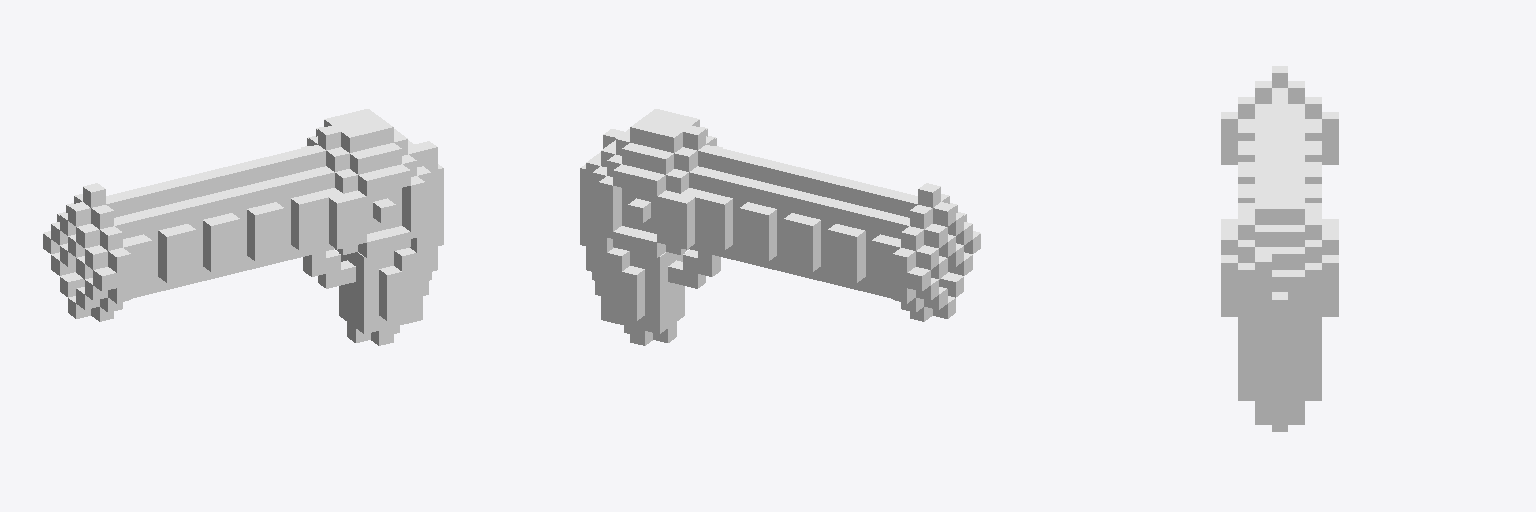
The model's file is Pistola.obj.
3 renders of one model, left to right at view 1: azimuth 30°, elevation 25°; view 2: azimuth 150°, elevation 25°; view 3: azimuth 270°, elevation 25°, orthographic.
Visible parts, largest first — view 1: object 1; view 2: object 1; view 3: object 1.
Part boxes in pixels (bbox=[...]): object 1: bbox=[43, 109, 443, 345]; object 1: bbox=[580, 109, 980, 345]; object 1: bbox=[1221, 66, 1338, 431].
Bounding box in the file's own units: 2.5 × 1.4 × 0.7.